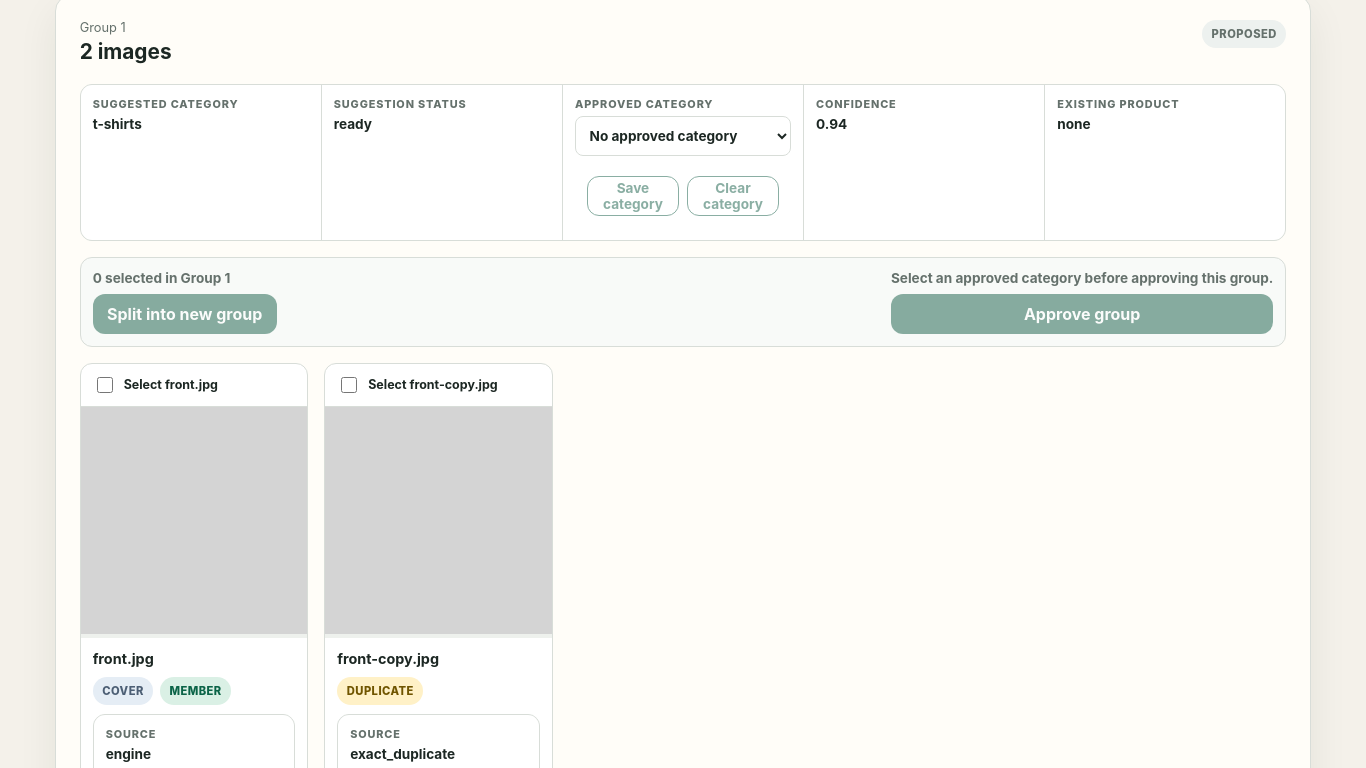
Test: ReviewBatch › disables split when all images in a group are selected
(page scrolled)
Click the checkbox labelled "Select front.jpg": (105, 385) x1=97 y1=377 x2=113 y2=393
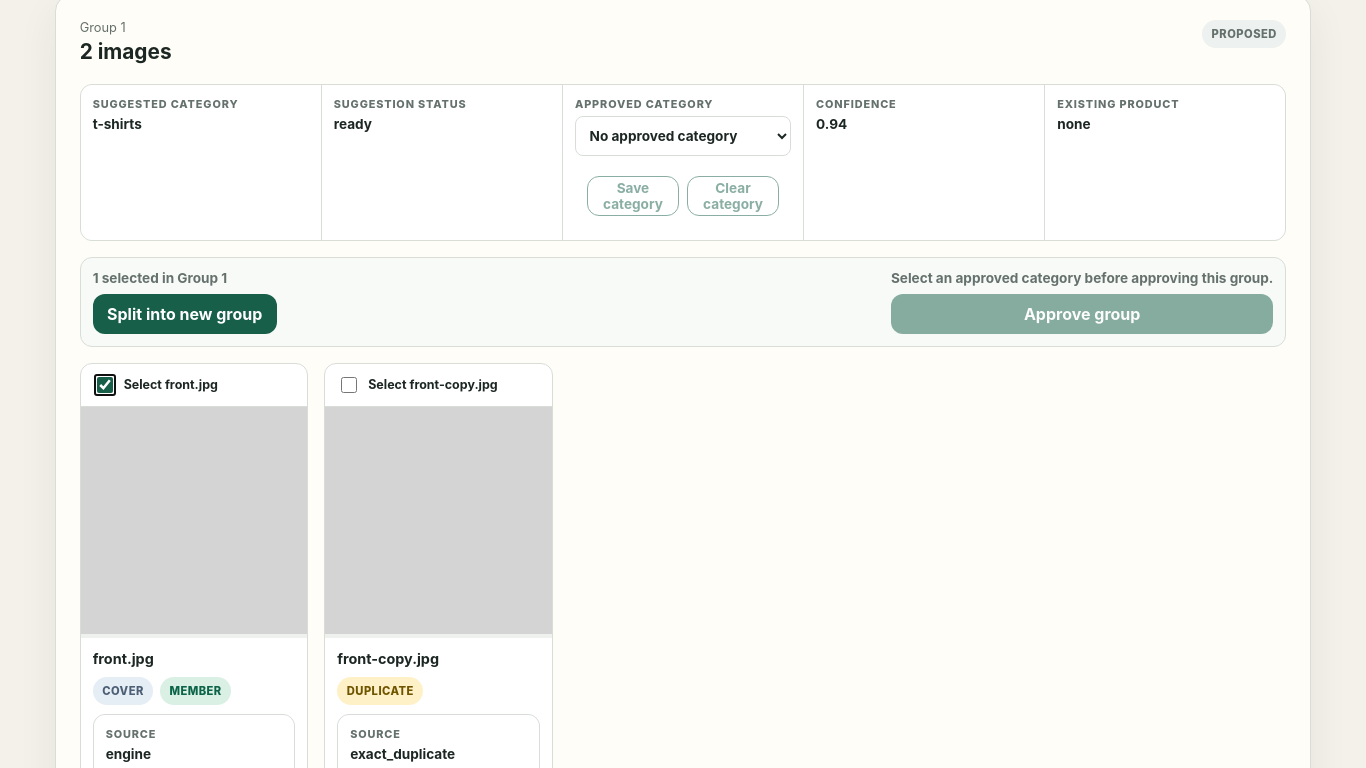
Click the checkbox labelled "Select front-copy.jpg": (349, 385) x1=341 y1=377 x2=357 y2=393
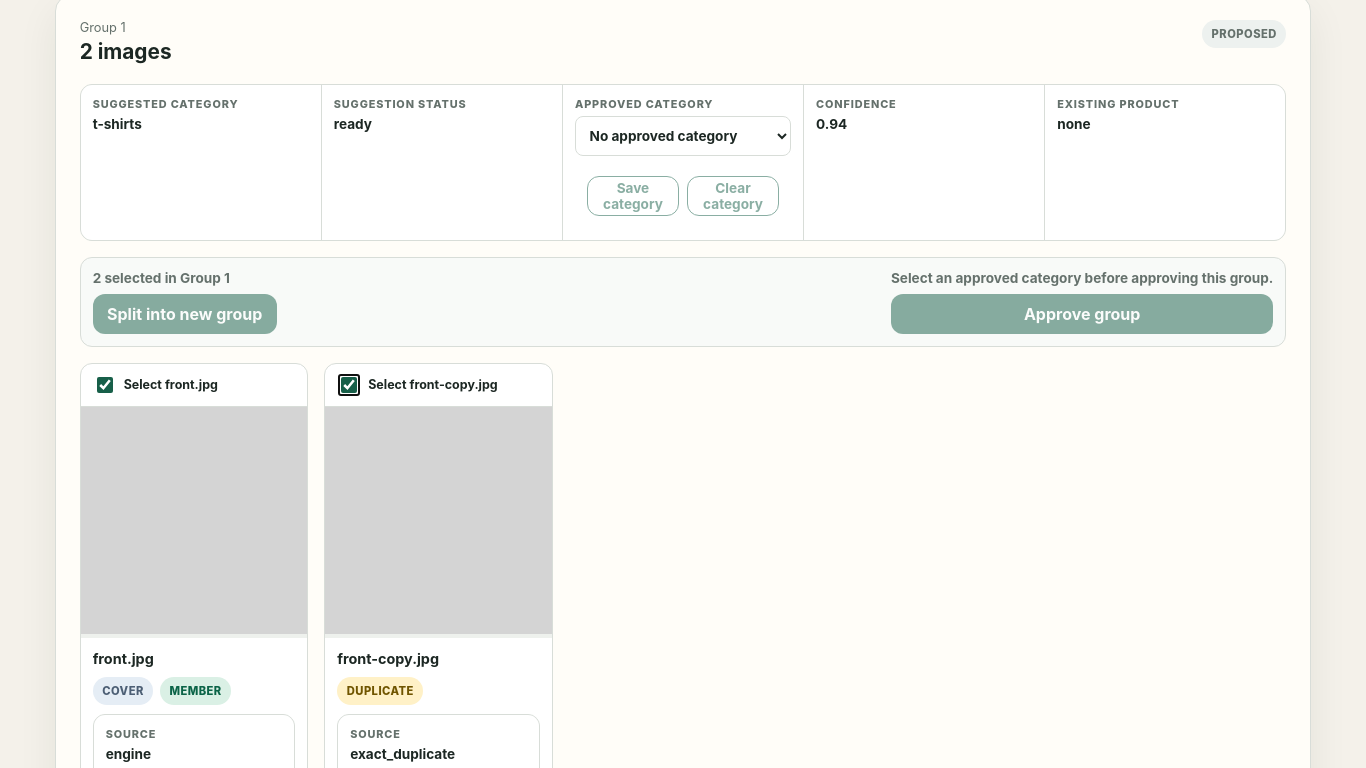
Expected: the button "Split into new group" is disabled, x1=93 y1=294 x2=277 y2=334
